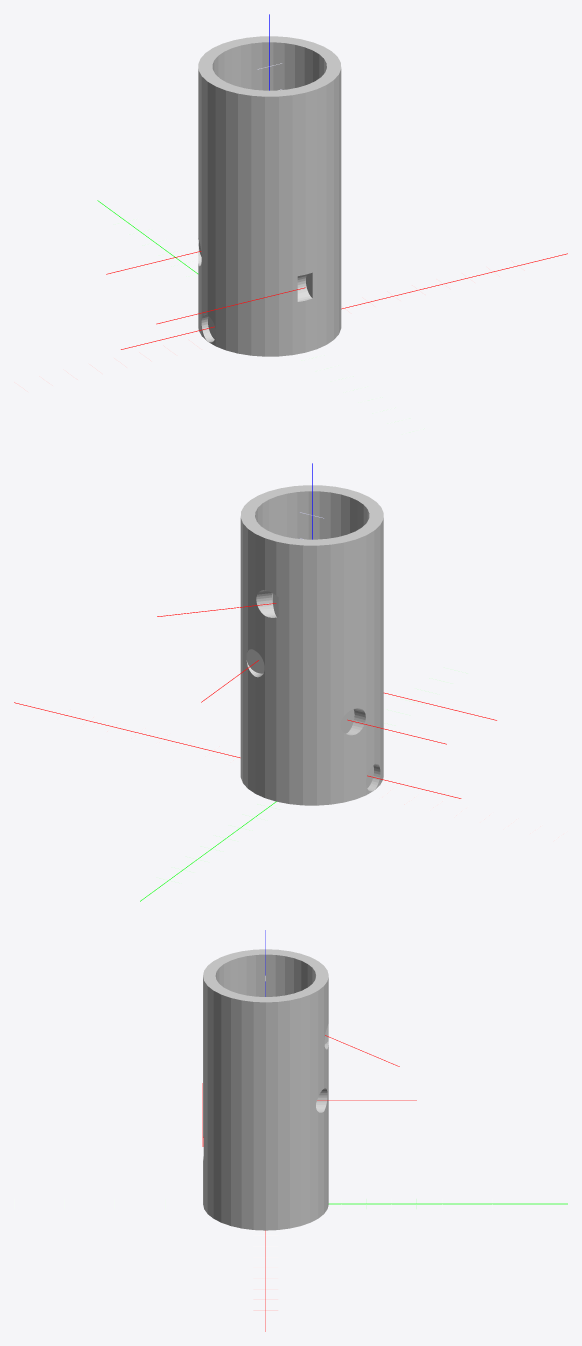
The model's file is entity.glb.
3 renders of one model, top to bottom at view 1: azimuth 30°, elevation 25°; view 2: azimuth 150°, elevation 25°; view 3: azimuth 270°, elevation 25°, orthographic. The views are drawn at different scales.
Parts seen in each view (by area): view 1: Cylinder; view 2: Cylinder; view 3: Cylinder.
Boxes of the visible parts, x1,y1,x2,y2 form: Cylinder: (198, 36, 341, 356); Cylinder: (240, 485, 383, 805); Cylinder: (203, 949, 328, 1230).
Bounding box in the file's own units: 440 × 240 × 440.
